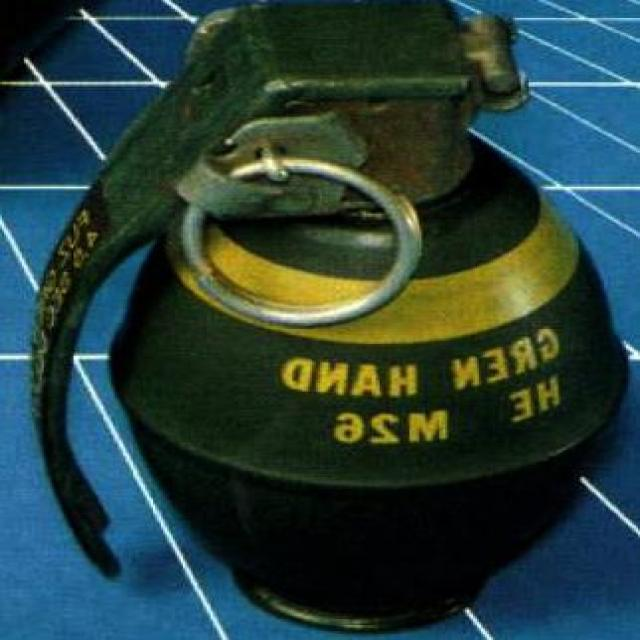grenade: (31, 1, 633, 638)
